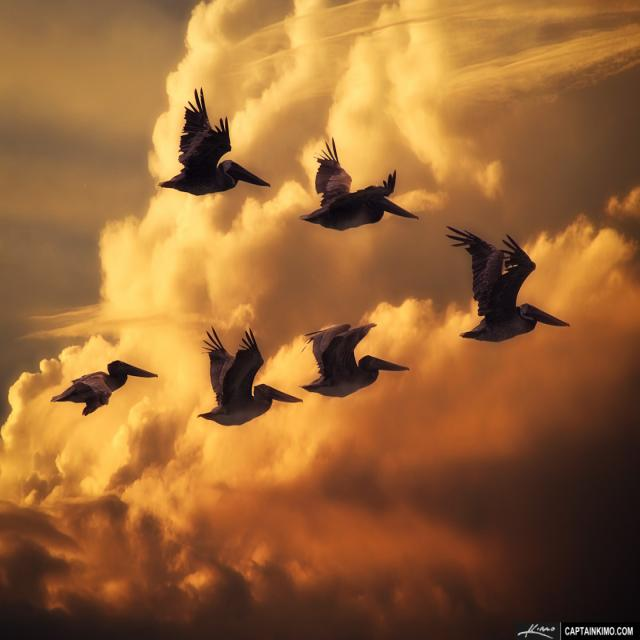bird: (448, 228, 567, 344), (159, 87, 270, 200), (304, 136, 420, 237), (199, 323, 303, 431), (292, 319, 413, 401), (52, 362, 159, 420)
